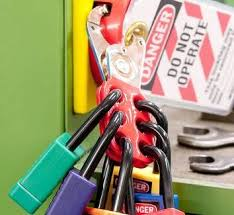hasp: (85, 5, 157, 170)
lock: (7, 90, 119, 214), (44, 109, 124, 213), (111, 117, 175, 209), (113, 94, 167, 196), (121, 141, 185, 214), (84, 135, 131, 213)
